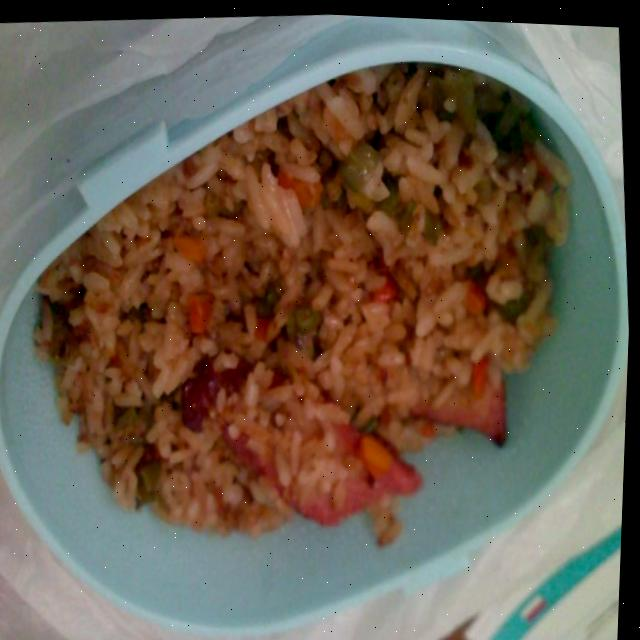米饭主食: (0, 4, 617, 638)
